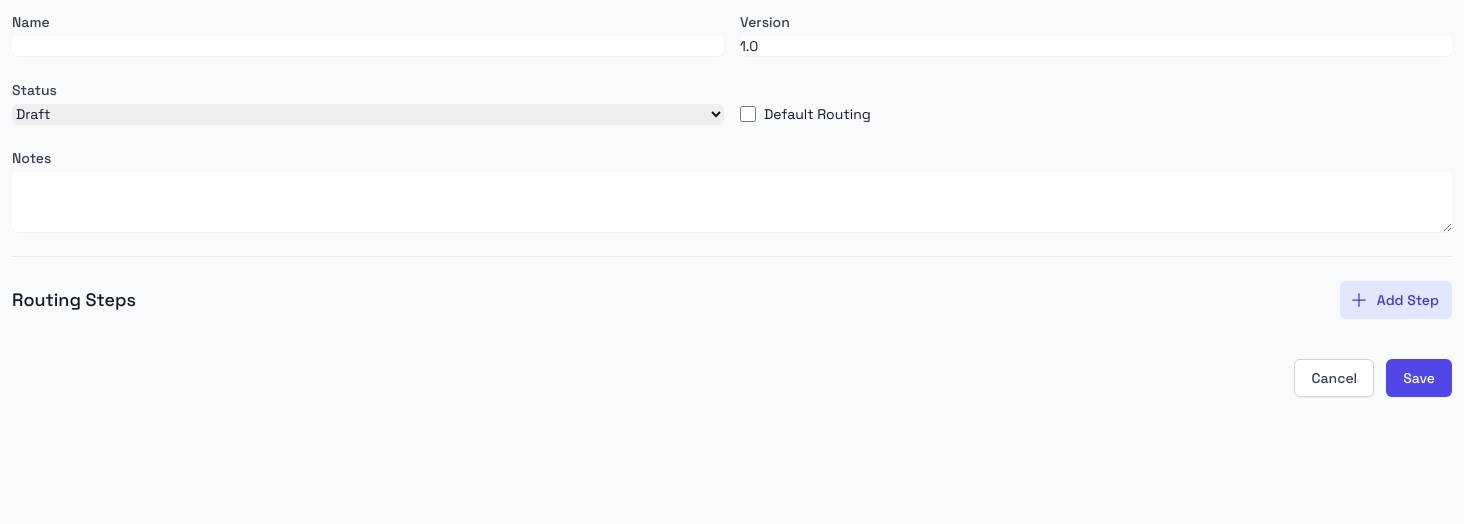
it: RoutingForm › shows resolved receive-to hint when location is available
Click the button "Add Step": (1396, 300) [1340,281,1452,319]
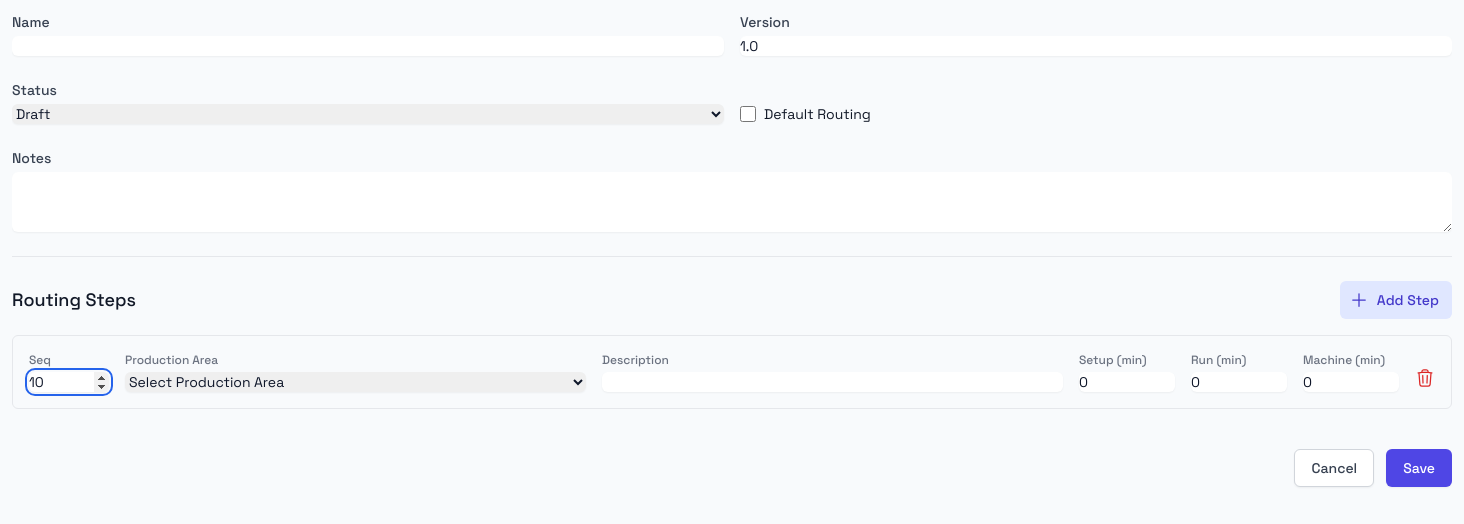
Select "Packaging (PACK)" in the dropdown named "steps.0.workCenterId" below "Production Area": (356, 382) [125,372,586,392]
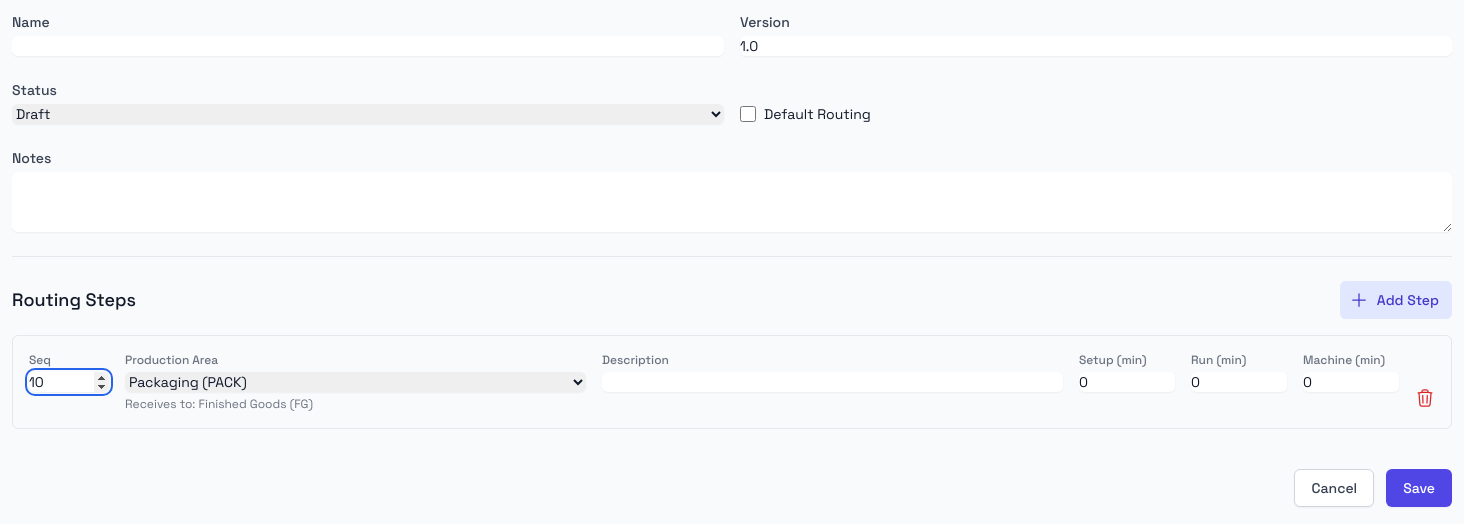
Check: the text "Receives to: Finished Goods (FG)" is shown, box [125,396,313,412]
